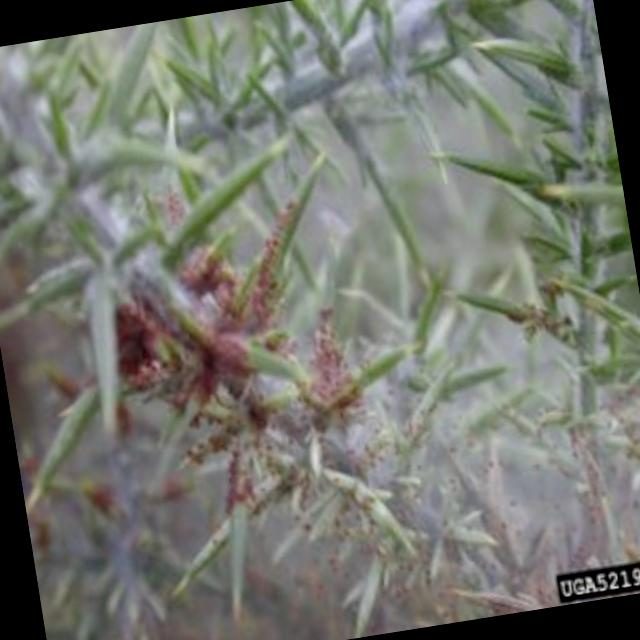spider mite: (168, 400, 298, 531), (92, 279, 204, 406), (190, 215, 304, 339), (282, 316, 372, 427)
